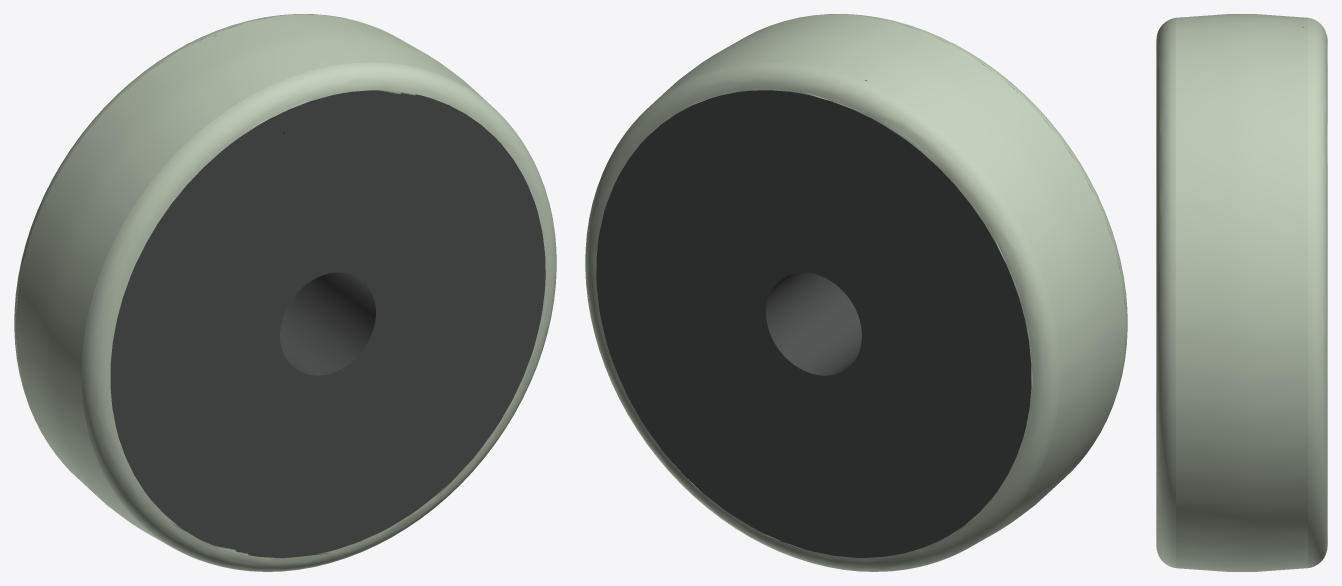
The model's file is caster_wheel.dae.
3 views of the same model, side by side, from view 1: azimuth 30°, elevation 25°; view 2: azimuth 150°, elevation 25°; view 3: azimuth 270°, elevation 25° (orthographic).
Parts seen in each view (by area): view 1: Object; view 2: Object; view 3: Object.
Part boxes in pixels (x1,y1,x2,y2): Object: [14, 14, 556, 571]; Object: [585, 14, 1127, 571]; Object: [1156, 14, 1327, 571].
Bounding box in the file's own units: 0.075 × 0.023 × 0.075.
Materials: 1 (1 with a texture image).
